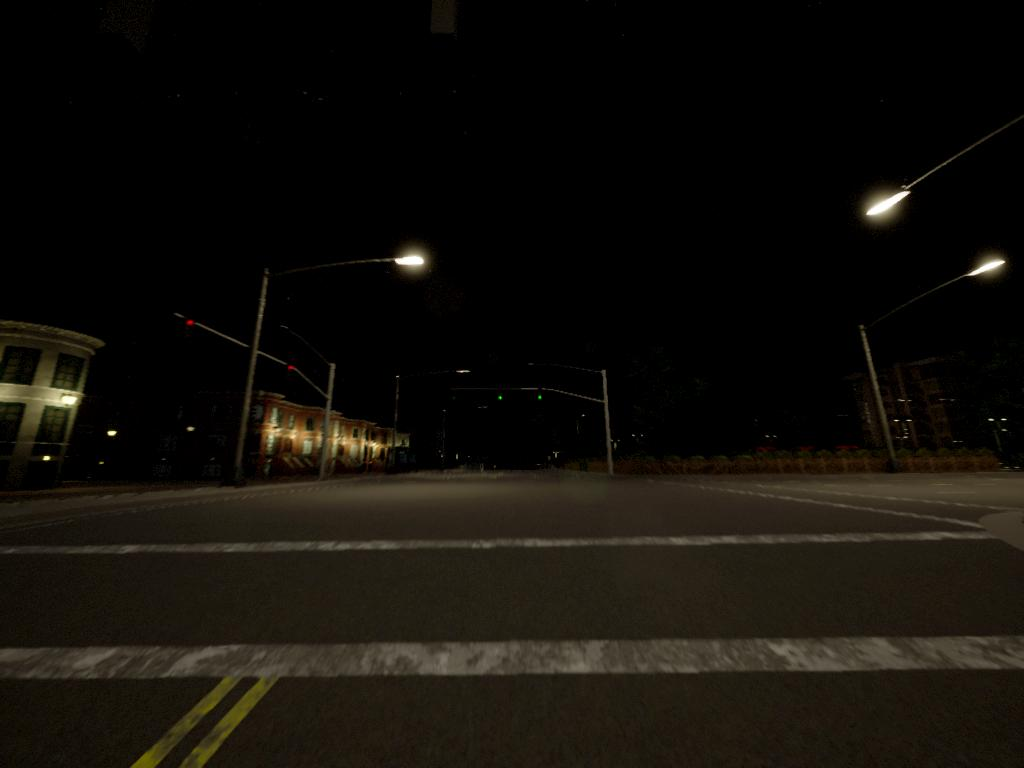traffic_light: (286, 363, 296, 379), (186, 317, 195, 334), (497, 392, 506, 407), (538, 391, 546, 406)
